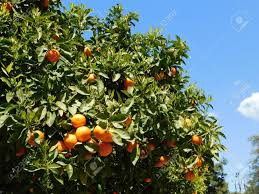orange: (71, 110, 87, 127), (77, 125, 92, 141)
